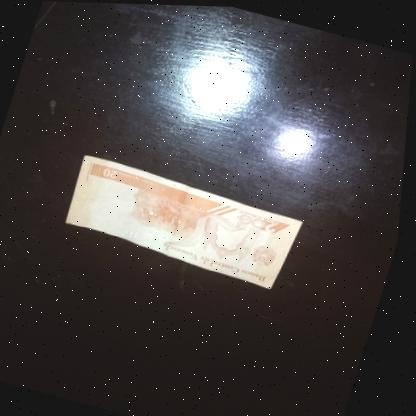twenty-back-vef: (59, 151, 314, 292)
